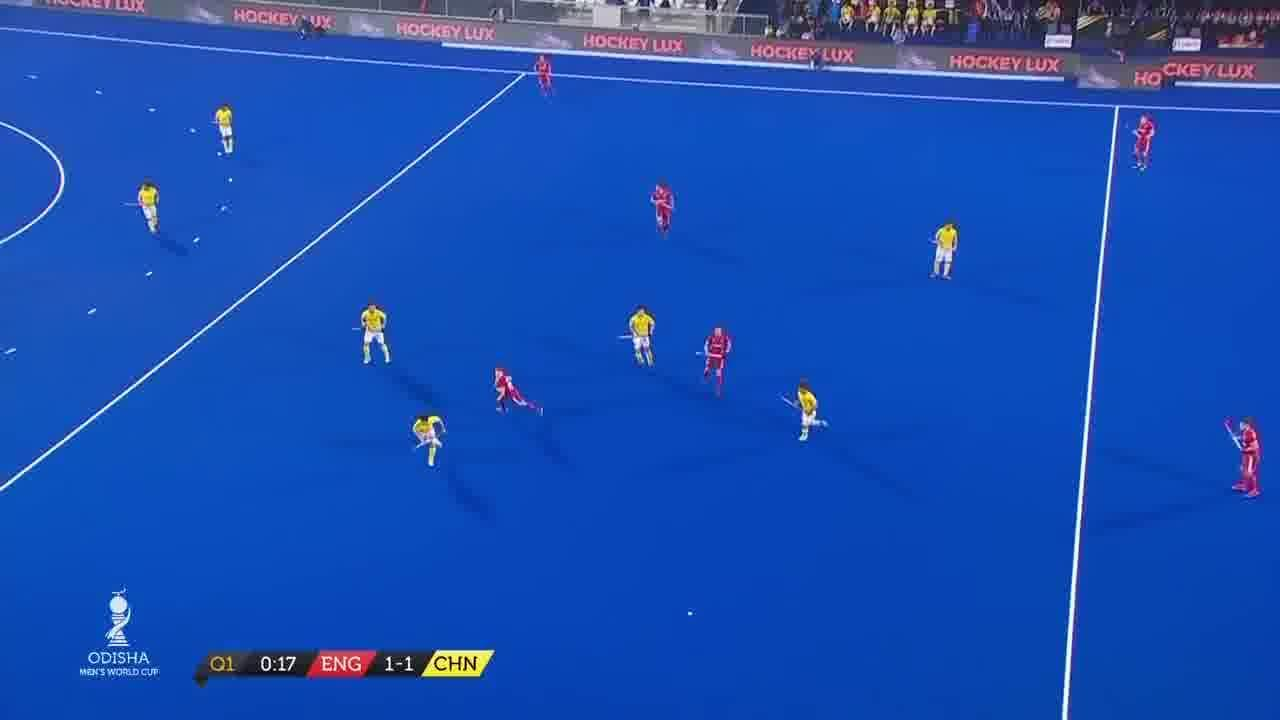ball: (686, 606, 700, 620)
